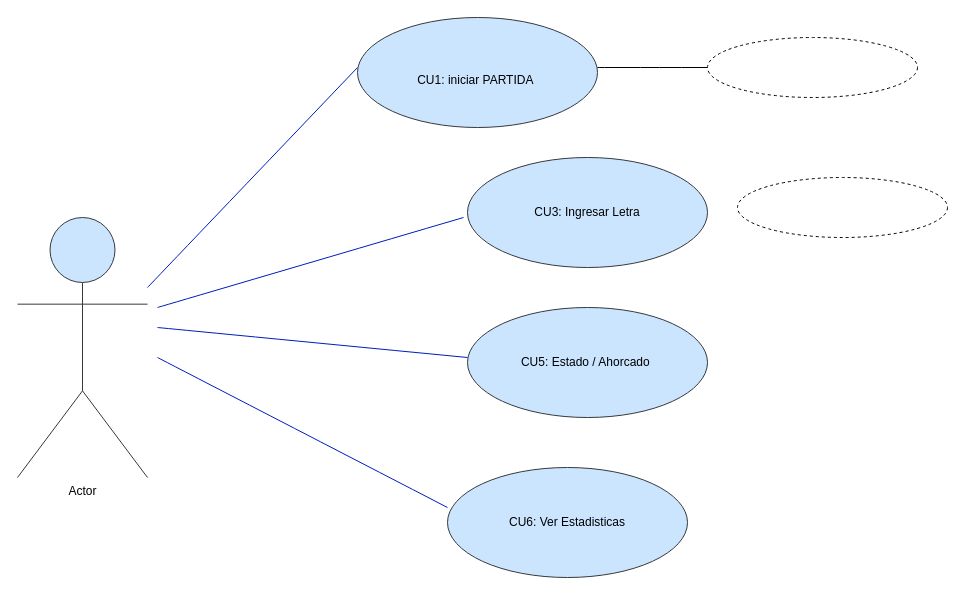
Image size: 965x595. Some labels were removed from this diagram. Here are the shapes that lost their labels. From the top down, the box of each, then its label:
(706, 36, 918, 98): CU2: Elegir Categoria
(736, 176, 948, 238): CU4: Pedir Pista
